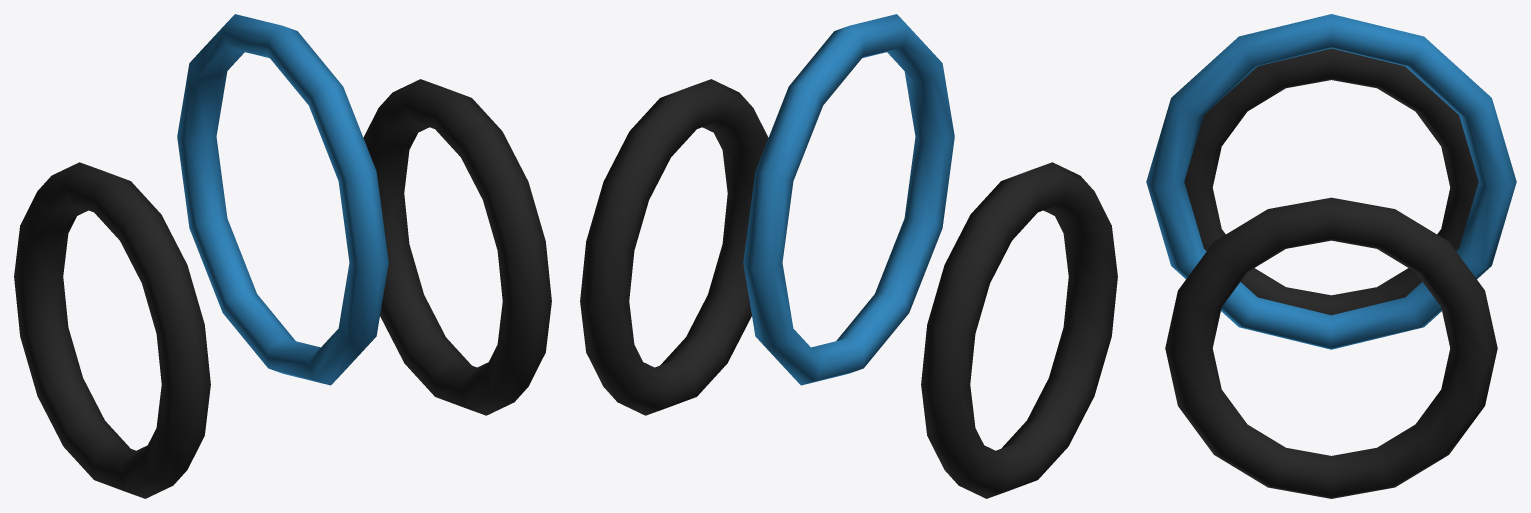
The model's file is bicycle.glb.
3 renders of one model, left to right at view 1: azimuth 30°, elevation 25°; view 2: azimuth 150°, elevation 25°; view 3: azimuth 270°, elevation 25°, orthographic. The views are drawn at different scales.
Visible parts, largest first — view 1: bicycle; view 2: bicycle; view 3: bicycle.
Part boxes in pixels (left/top/right/bottom): bicycle: left=14, top=14, right=551, bottom=498; bicycle: left=580, top=14, right=1117, bottom=498; bicycle: left=1146, top=14, right=1516, bottom=498.
Bounding box in the file's own units: 0.8866 × 0.94 × 0.78.
